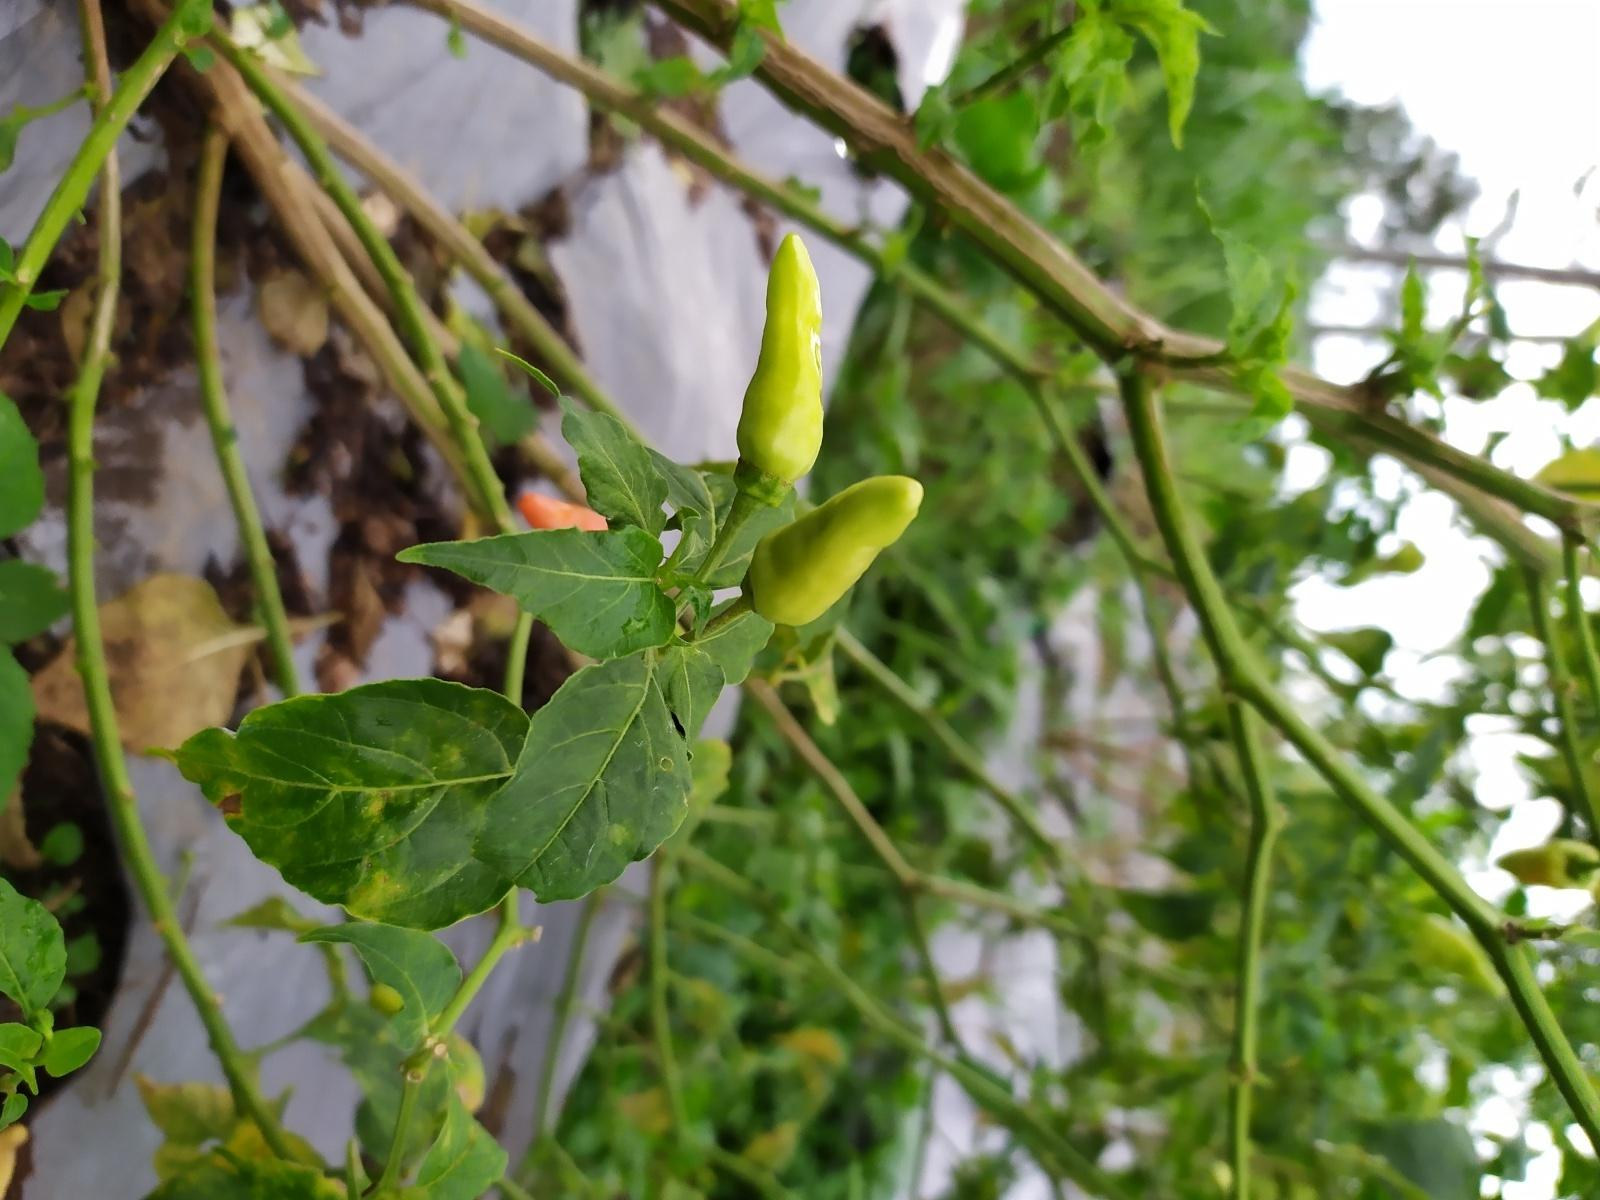cabai_normal: (746, 474, 925, 628), (734, 232, 826, 489)
